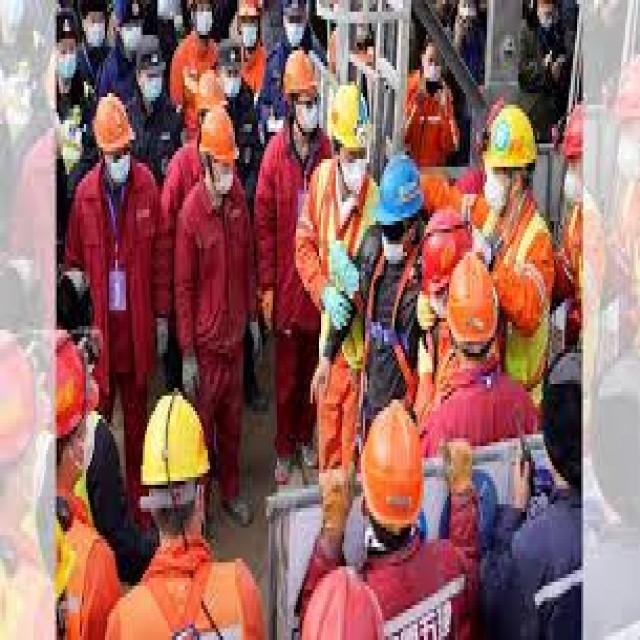Reflective-Jacket: (101, 547, 262, 640)
Safety-Helmet: (136, 384, 214, 496), (359, 399, 424, 532), (298, 562, 394, 640), (0, 322, 40, 469), (445, 252, 499, 349), (481, 101, 537, 174), (371, 151, 424, 225), (90, 89, 136, 159), (329, 82, 372, 155), (197, 105, 239, 167), (279, 46, 319, 101), (50, 4, 84, 43)
